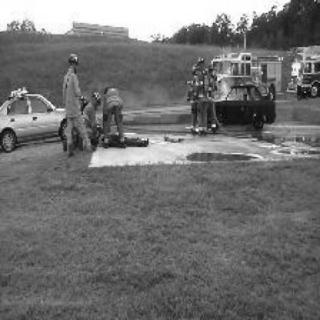other: (286, 42, 318, 62), (217, 40, 234, 70)
